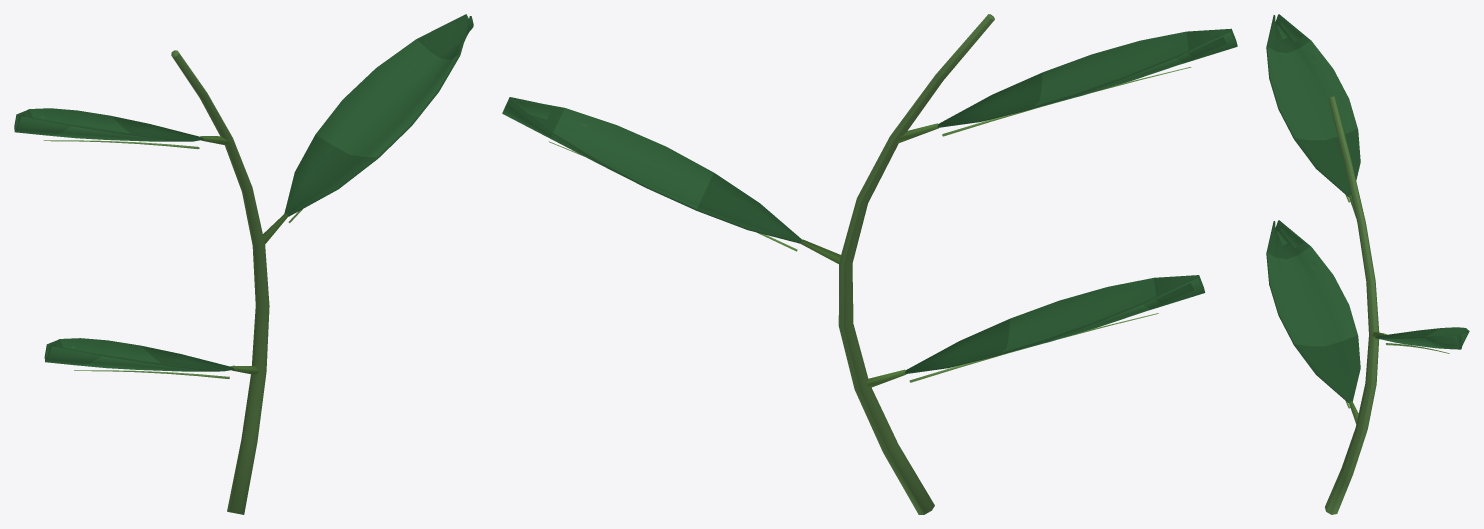
File: garden-tulip-bud-stem-3.glb
The picture shows the model from 3 angles, left to right: view 1: azimuth 30°, elevation 25°; view 2: azimuth 150°, elevation 25°; view 3: azimuth 270°, elevation 25°; orthographic projection. The views are drawn at different scales.
Parts seen in each view (by area): view 1: tulip-bud-stem-3; view 2: tulip-bud-stem-3; view 3: tulip-bud-stem-3.
Part boxes in pixels (x1,y1,x2,y2): tulip-bud-stem-3: (14, 14, 473, 514); tulip-bud-stem-3: (502, 14, 1237, 514); tulip-bud-stem-3: (1266, 14, 1469, 514).
Bounding box in the file's own units: 0.5139 × 0.4179 × 0.1934.
